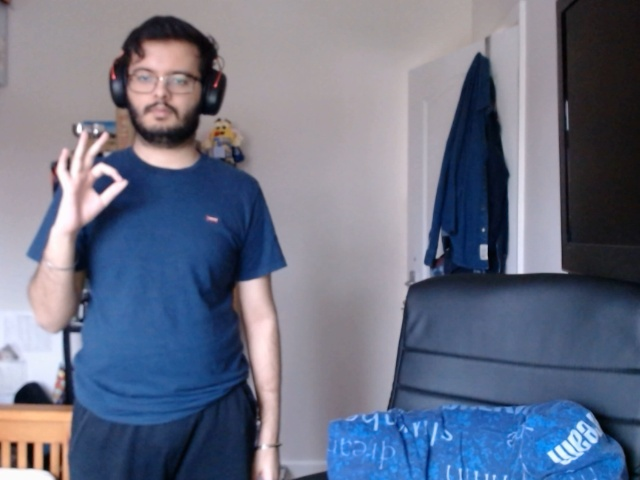Okay: (40, 130, 140, 235)
